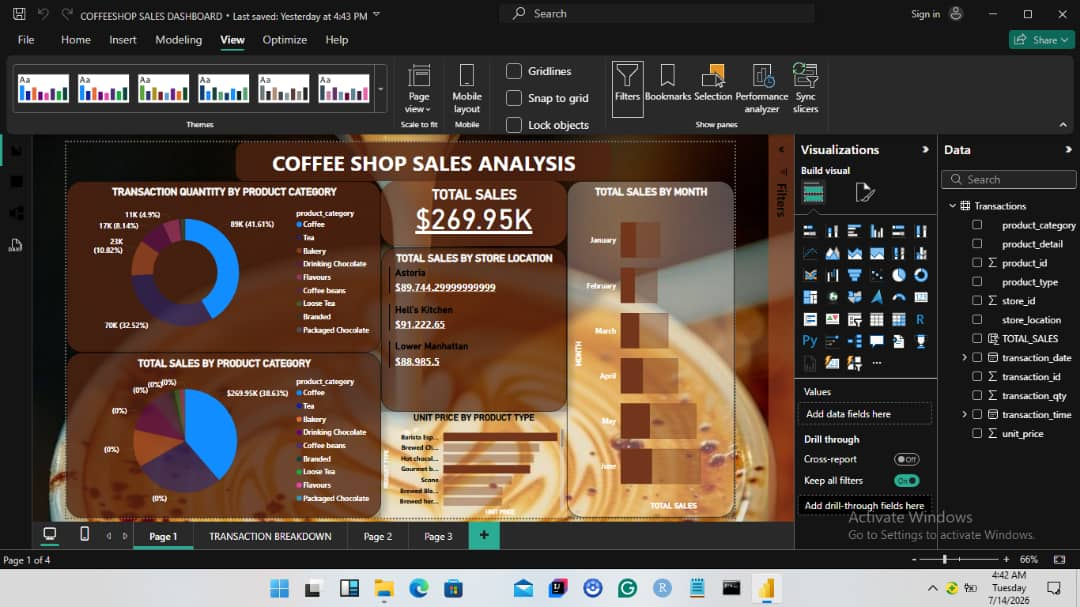

This screenshot's page, from the dashboard's own definition file:
{"tool":"powerbi","page":{"name":"Page 1","canvas":[1280,720],"ordinal":0},"visuals":[{"type":"donutChart","title":"TRANSACTION QUANTITY BY PRODUCT CATEGORY","fields":{"Category":["Transactions.product_category"],"Y":["Sum(Transactions.transaction_qty)"]},"box":[0,74.7,603.5,328.6],"z":0},{"type":"pieChart","title":"TOTAL SALES BY PRODUCT CATEGORY","fields":{"Category":["Transactions.product_category"],"Y":["Sum(Transactions.TOTAL_SALES)"]},"box":[0,403.3,603.5,316.7],"z":1000},{"type":"card","title":"TOTAL SALES","fields":{"Values":["Sum(Transactions.TOTAL_SALES)"]},"box":[603.5,74.7,355.5,124],"z":2000},{"type":"multiRowCard","title":"TOTAL SALES BY STORE LOCATION","fields":{"Values":["Transactions.store_location","Sum(Transactions.TOTAL_SALES)"]},"box":[603.5,201.7,355.5,315.2],"z":3000},{"type":"shape","box":[324.1,0,721.5,74.7],"z":4000},{"type":"clusteredBarChart","title":"TOTAL SALES BY MONTH","fields":{"Category":["Transactions.transaction_date.Variation.Date Hierarchy.Month"],"Y":["Sum(Transactions.TOTAL_SALES)"]},"box":[959,74.7,321.2,645.3],"z":5000},{"type":"barChart","title":"UNIT PRICE BY PRODUCT TYPE","fields":{"Category":["Transactions.product_type"],"Y":["Sum(Transactions.unit_price)"]},"box":[603,517,356,203],"z":6000}]}

Visuals, with their boxes on the page's 1280x720 design canvas (x1, y1, x2, y2). These are canvas units, not pixel positions in the 1080x607 screenshot, which may show the page scaled, cropped or inside an application window:
"TRANSACTION QUANTITY BY PRODUCT CATEGORY" donutChart: 0,75,604,403
"TOTAL SALES BY PRODUCT CATEGORY" pieChart: 0,403,604,720
"TOTAL SALES" card: 604,75,959,199
"TOTAL SALES BY STORE LOCATION" multiRowCard: 604,202,959,517
shape: 324,0,1046,75
"TOTAL SALES BY MONTH" clusteredBarChart: 959,75,1280,720
"UNIT PRICE BY PRODUCT TYPE" barChart: 603,517,959,720
